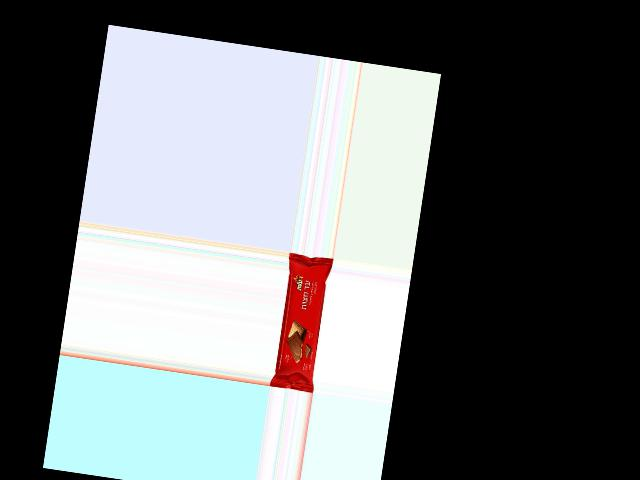chocolate: (270, 255, 333, 391)
